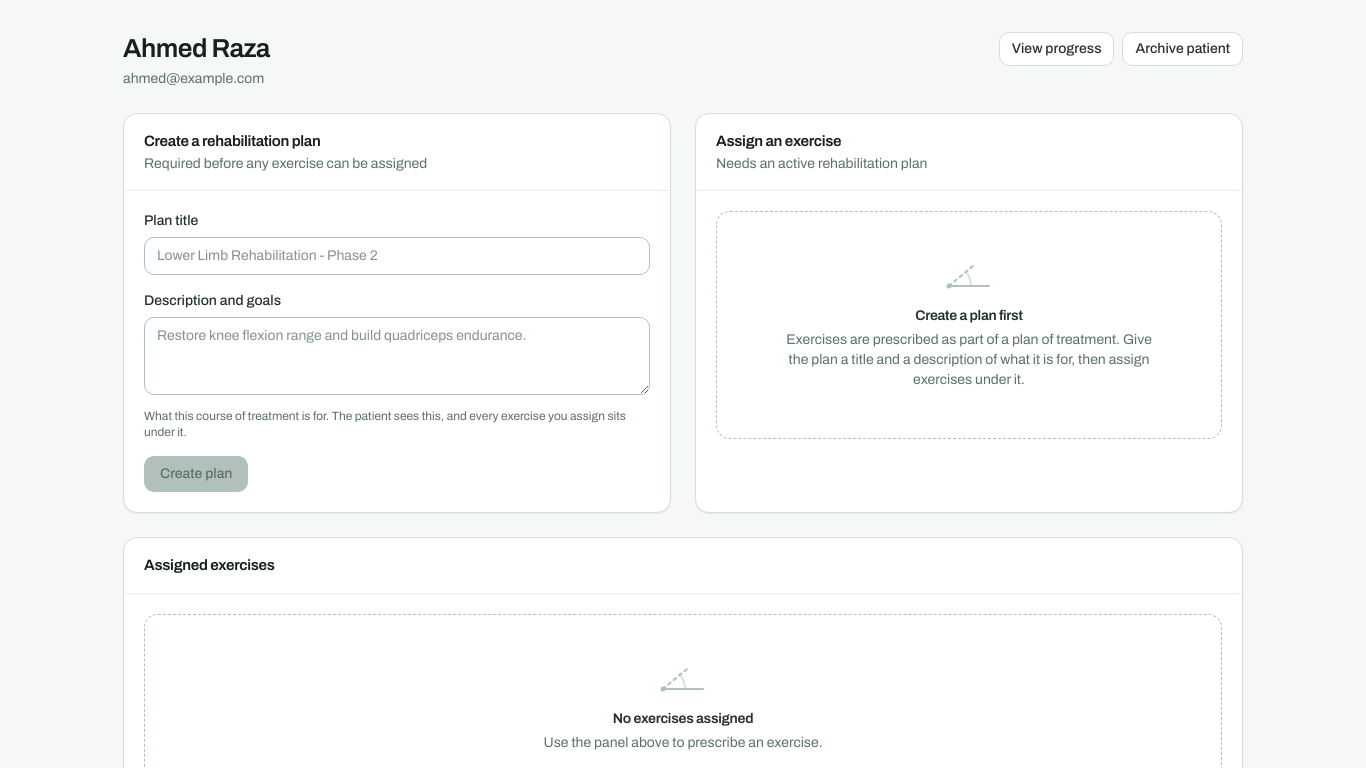
it: Archiving a patient › Cancel makes no request
Click the button "Archive patient": coordinates (1183, 49) [1122,32,1243,66]
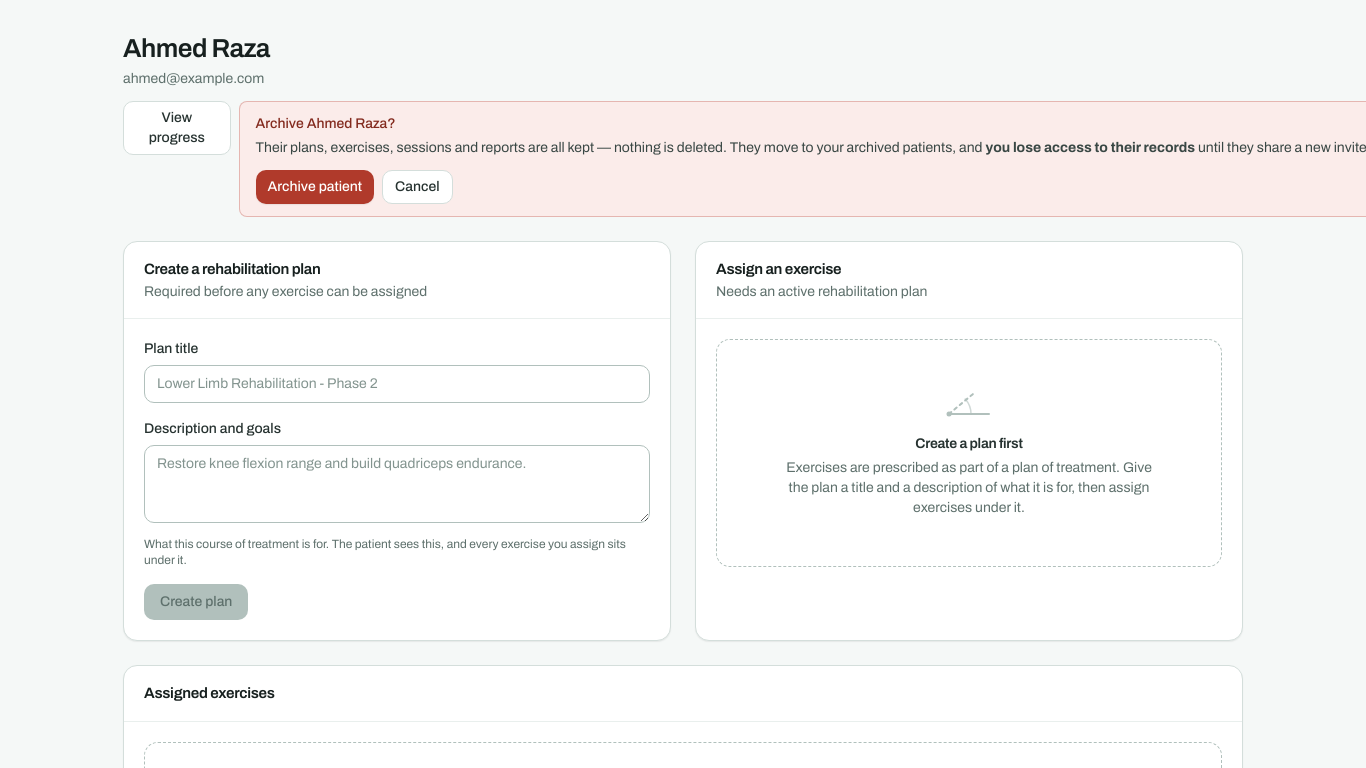
Click the button "Cancel": coordinates (417, 186) [382,170,452,204]
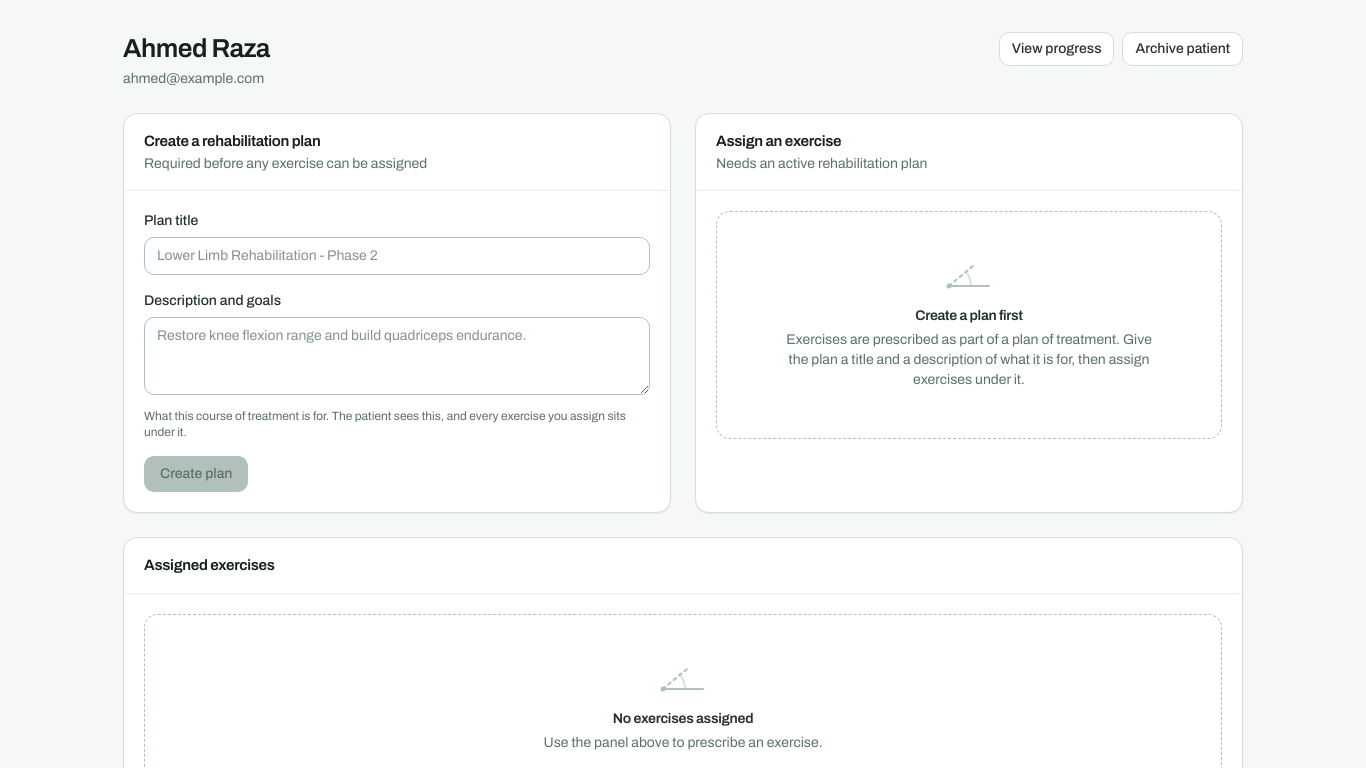
Expected: the dialog is gone
